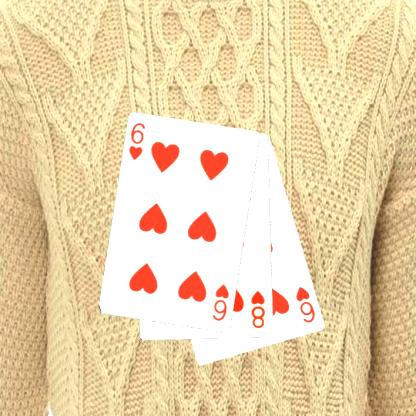6H: (293, 284, 317, 324), (126, 121, 147, 162), (210, 282, 231, 322)
8H: (248, 288, 266, 330)
